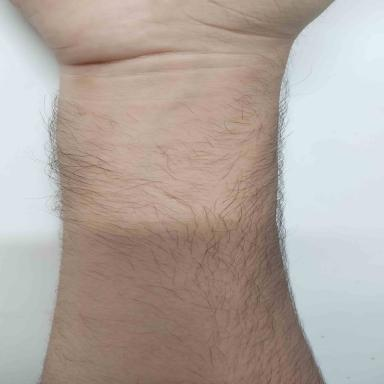normal skin: (11, 0, 333, 384)
